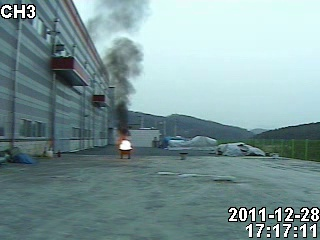fire: (118, 135, 132, 152)
smoke: (95, 2, 144, 117)
